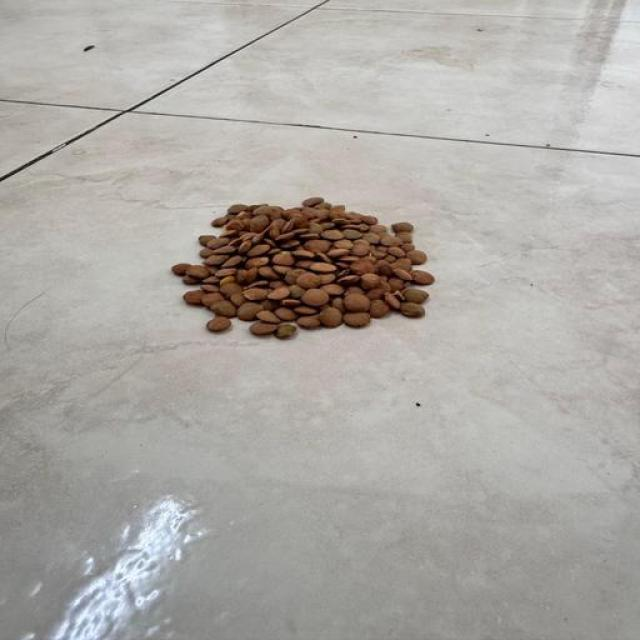organic: (172, 198, 433, 338)
